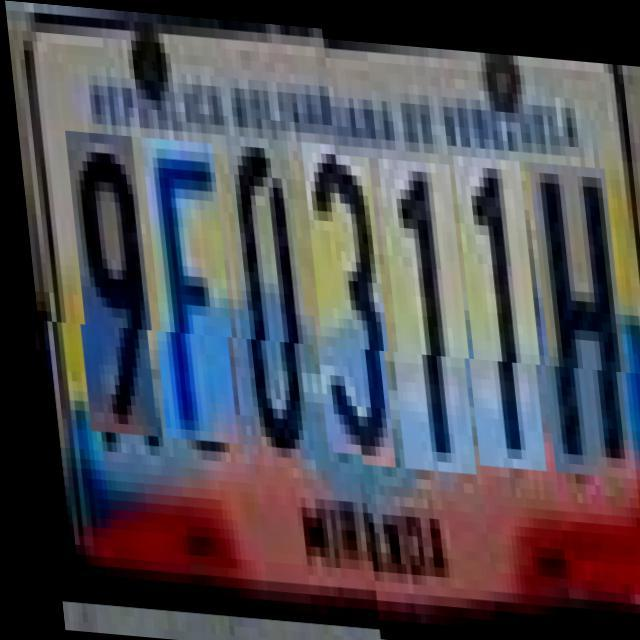0: (224, 141, 312, 465)
1: (376, 152, 472, 466), (450, 147, 542, 462)
3: (299, 146, 392, 461)
9: (64, 140, 154, 444)
F: (139, 145, 235, 450)
H: (526, 152, 627, 468)
